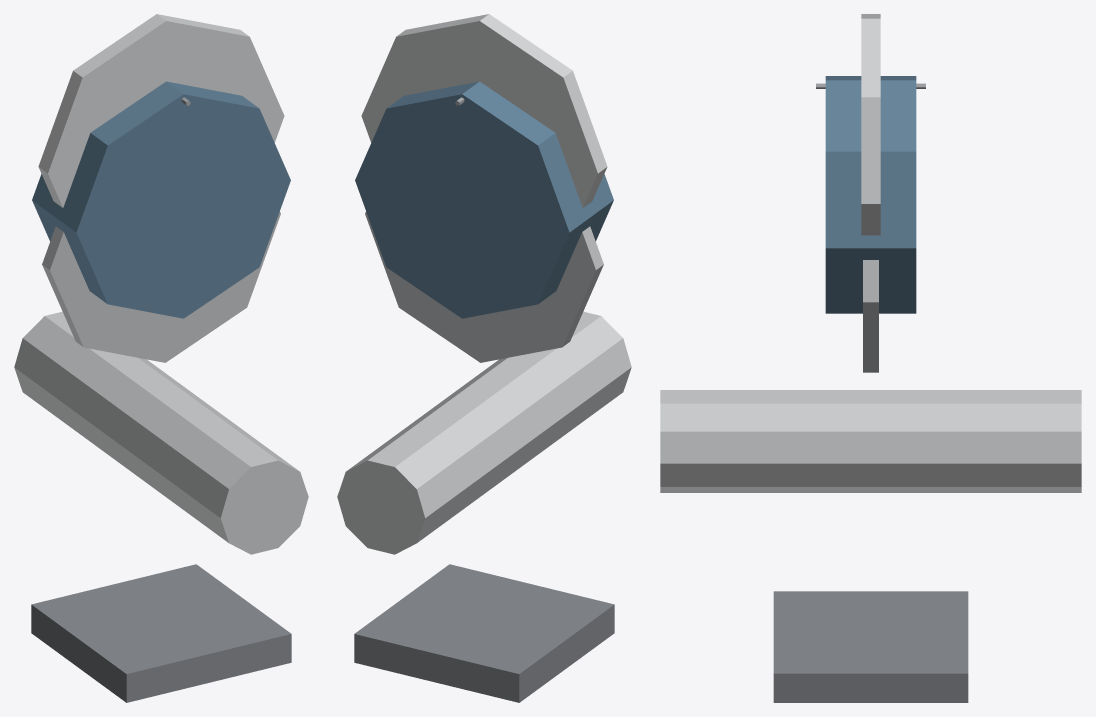
File: control_tower.glb
The picture shows the model from 3 angles, left to right: view 1: azimuth 30°, elevation 25°; view 2: azimuth 150°, elevation 25°; view 3: azimuth 270°, elevation 25°; orthographic projection. The views are drawn at different scales.
Visible parts, largest first — view 1: control_tower; view 2: control_tower; view 3: control_tower.
Part boxes in pixels (x1,y1,x2,y2): control_tower: (14,14,308,702); control_tower: (337,14,631,702); control_tower: (660,14,1081,702).
Size of the model in its own units: 8.6 by 21.9 by 13.
